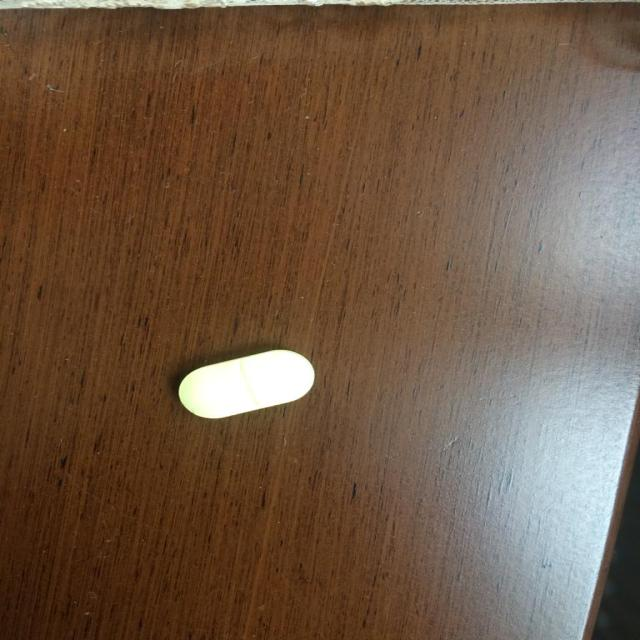pills: (165, 339, 325, 428)
